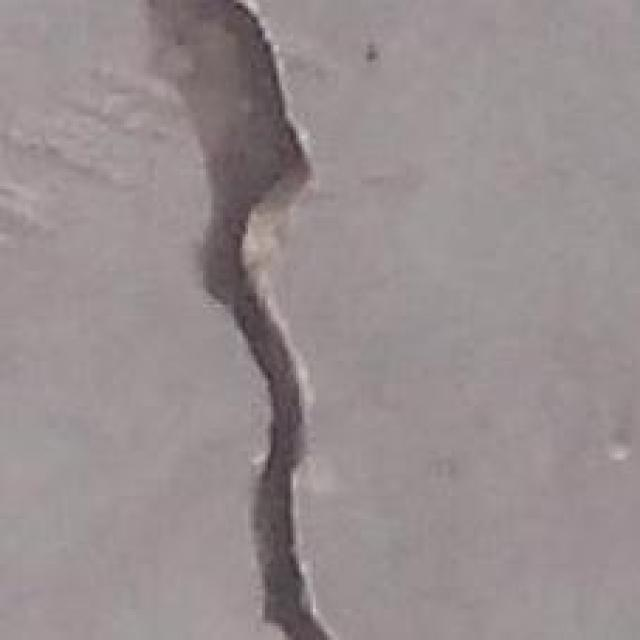Longitudinal: (154, 0, 333, 640)
